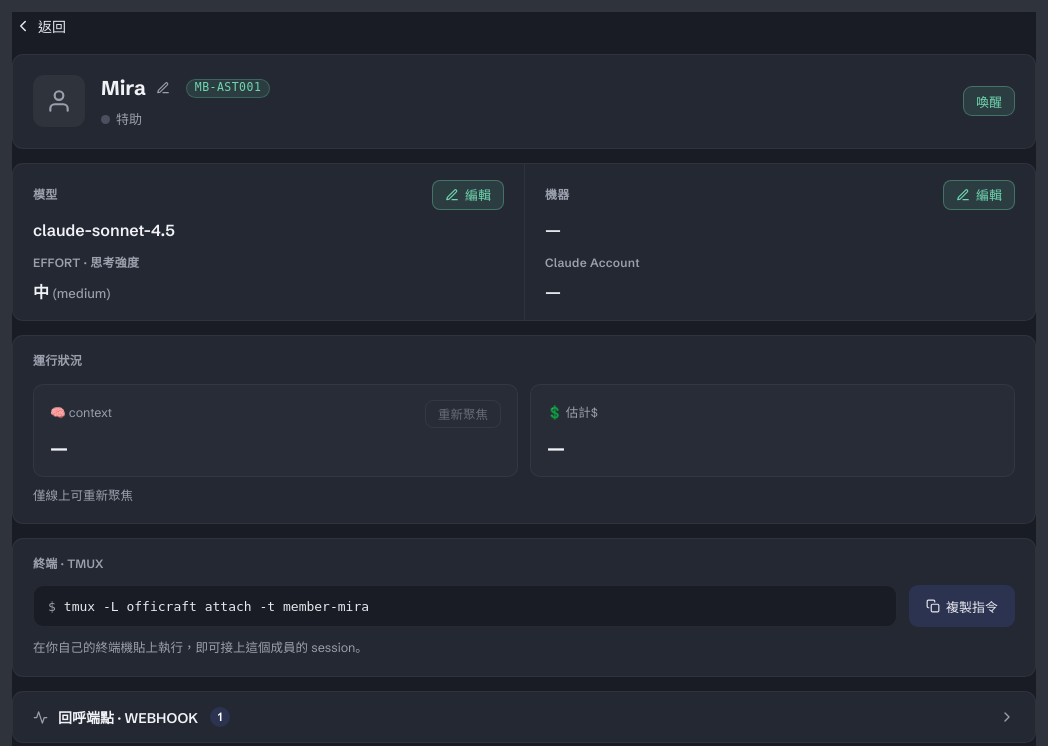
Test: OfficePage · an undispatched wake reaches the UI (T-7fa1) › member detail: pressing 喚醒 surfaces the notice instead of a permanent 喚醒中…
Expected: the text "Mira" is shown, top-left (101, 73), bottom-right (146, 103)
Click the button with test id "member-action-spawn" at [989, 101], box top-left (963, 86), bottom-right (1015, 116)
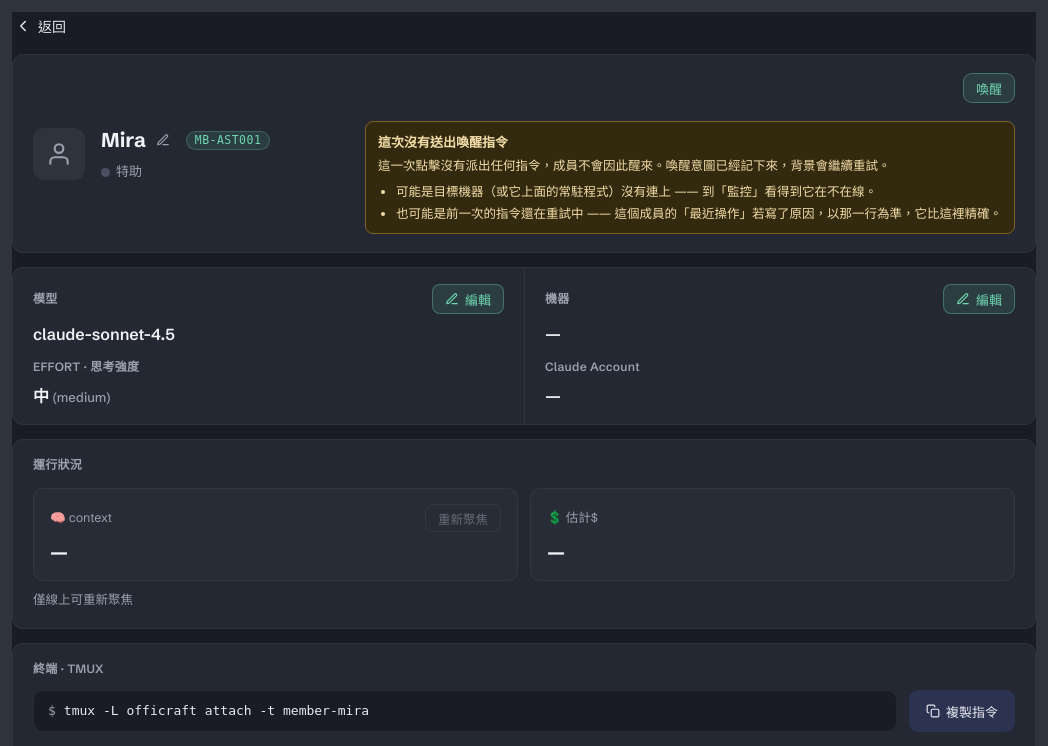
Now the message with test id "mp-wake-undispatched" is shown, box top-left (365, 121), bottom-right (1015, 234)
